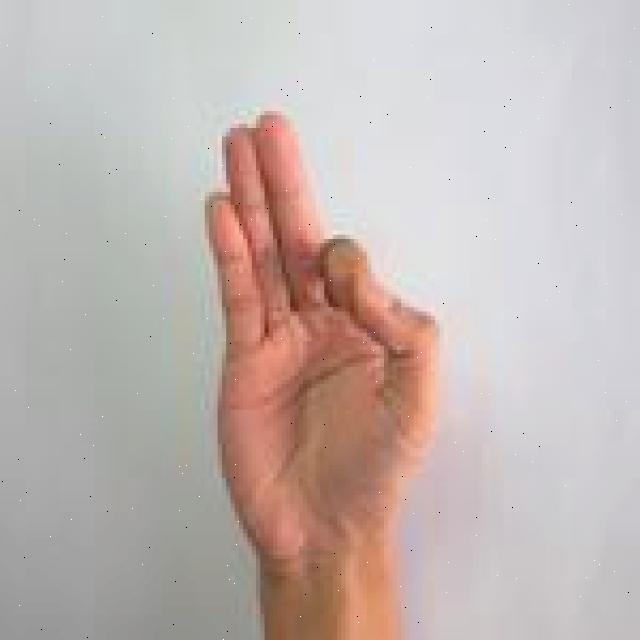F: (202, 110, 446, 640)
